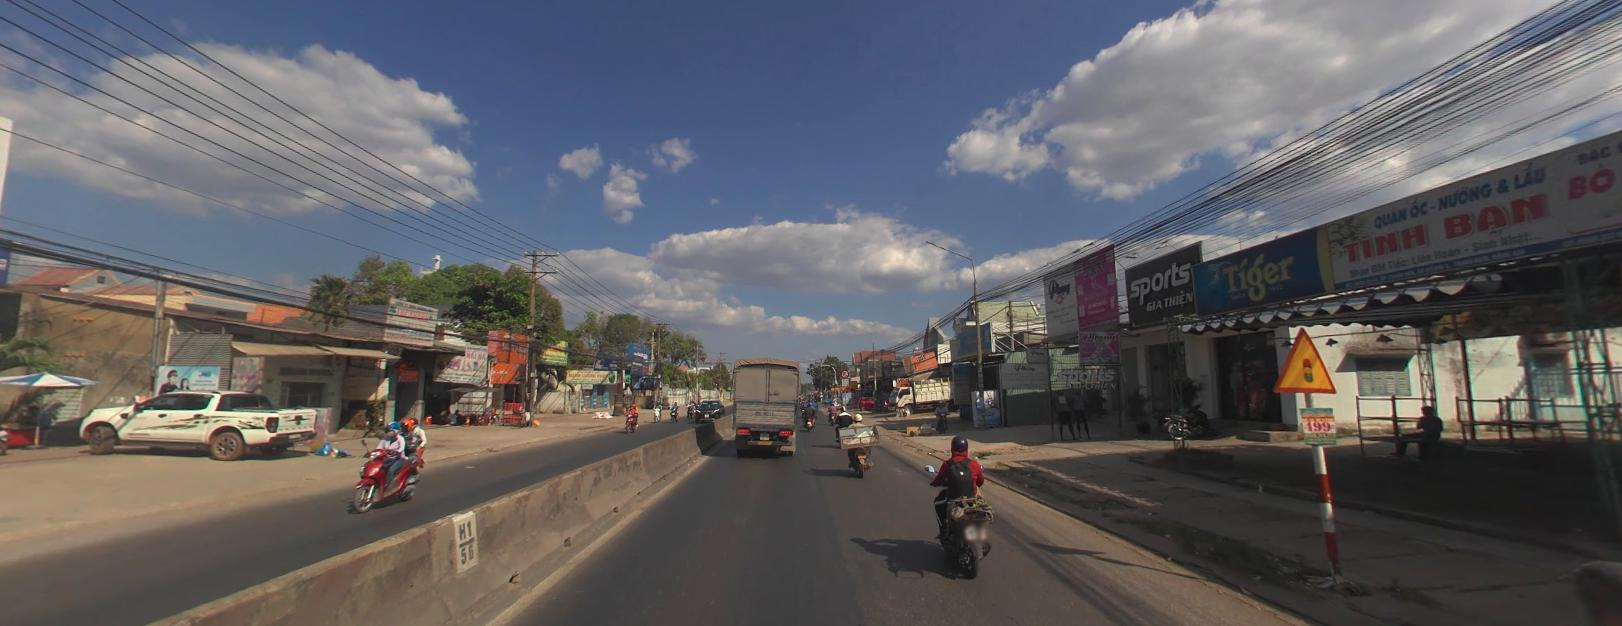Cam re: (840, 368, 848, 377)
Nguy hiem: (1267, 322, 1339, 394)
